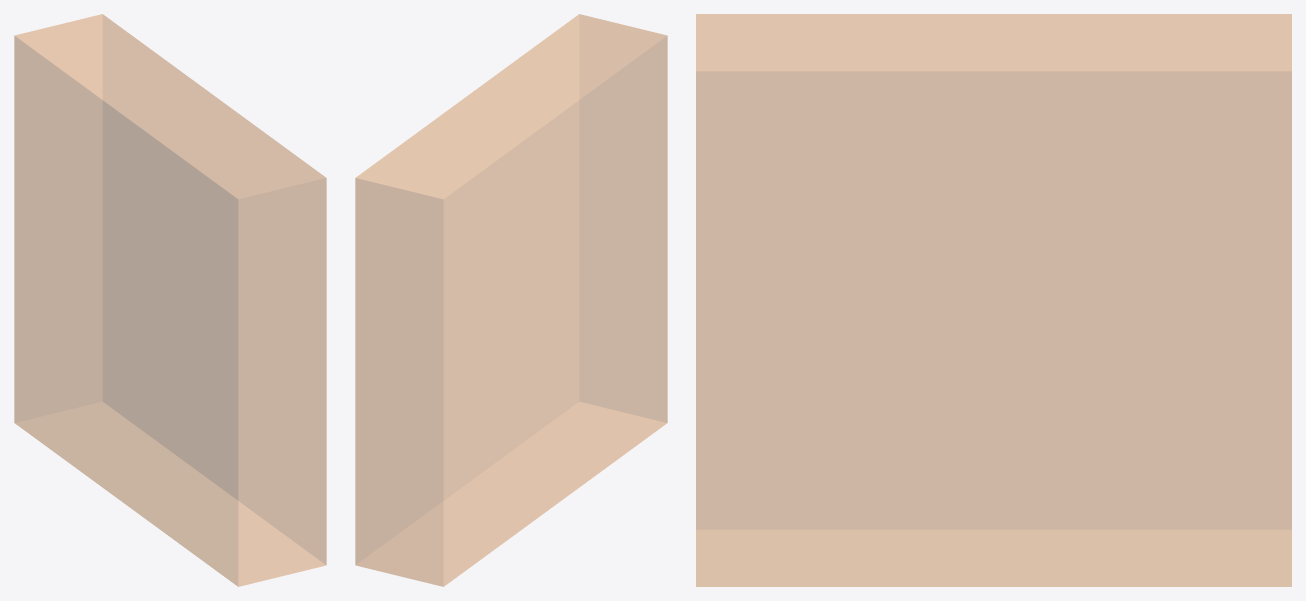
The model's file is transorange.glb.
The picture shows the model from 3 angles, left to right: view 1: azimuth 30°, elevation 25°; view 2: azimuth 150°, elevation 25°; view 3: azimuth 270°, elevation 25°; orthographic projection. The views are drawn at different scales.
Parts seen in each view (by area): view 1: Cube; view 2: Cube; view 3: Cube.
Part boxes in pixels (<box>): Cube: <box>14,14,326,586</box>; Cube: <box>355,14,667,586</box>; Cube: <box>696,14,1291,586</box>.
Bounding box in the file's own units: 2 × 8.39 × 8.79.
Materials: 1 (1 with a texture image).
